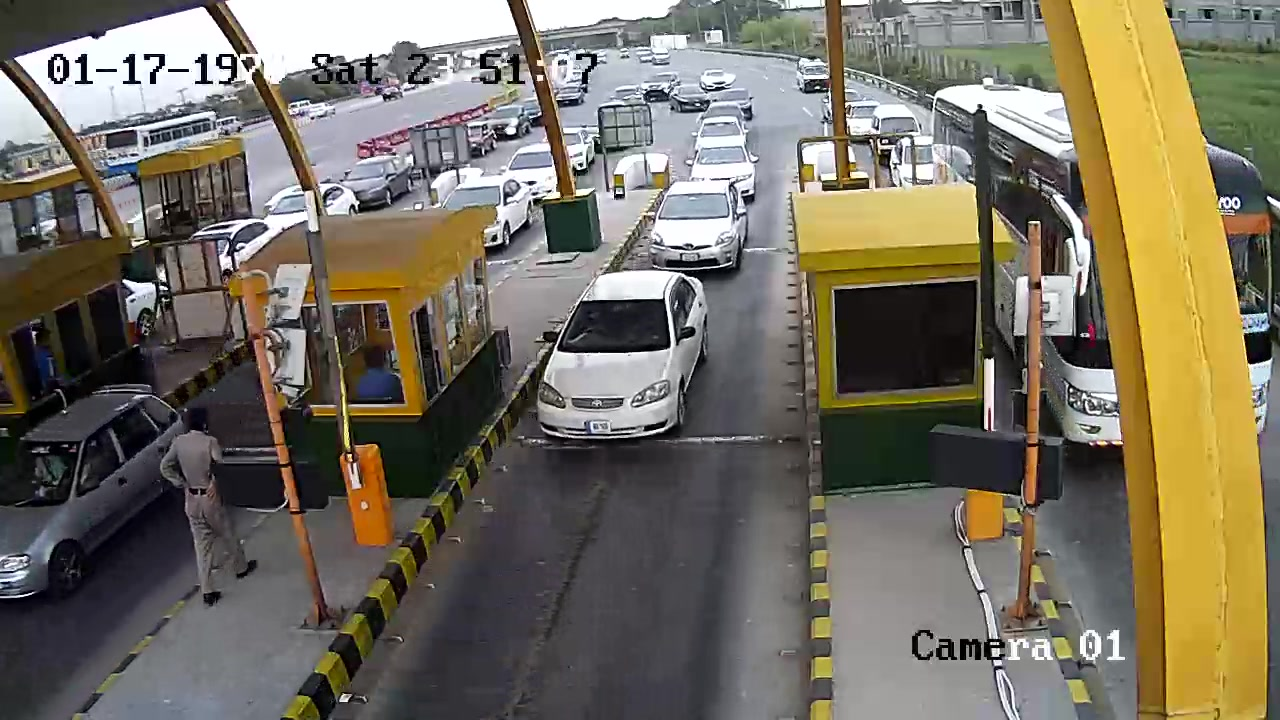F1: (522, 268, 744, 455)
